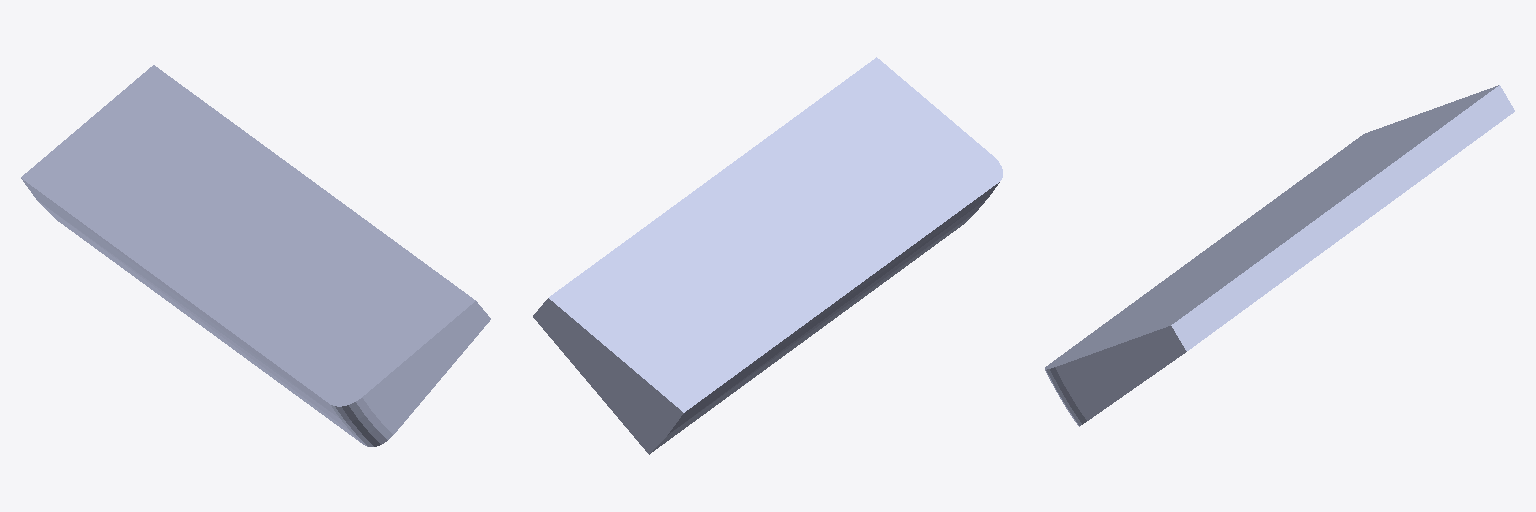
robot.urdf — mri_no_person_collision_pattern:
<robot
  name="mri_no_person_collision_pattern">
  <link
    name="base_link">
    <inertial>
      <origin
        xyz="-0.0581632879362901 -0.172648971046961 -0.106048016915093"
        rpy="0 0 0" />
      <mass
        value="46.358656237348" />
      <inertia
        ixx="6.74023573375755"
        ixy="0.00590724765498782"
        ixz="-0.205277419488155"
        iyy="0.517832983217161"
        iyz="0.00429186664480149"
        izz="6.87363308732468" />
    </inertial>
    <visual>
      <origin
        xyz="0 0 0"
        rpy="0 0 0" />
      <geometry>
        <mesh
          filename="package://mri_no_person_collision_pattern/meshes/base_link.STL" />
      </geometry>
      <material
        name="">
        <color
          rgba="0.792156862745098 0.819607843137255 0.933333333333333 1" />
      </material>
    </visual>
    <collision>
      <origin
        xyz="0 0 0"
        rpy="0 0 0" />
      <geometry>
        <mesh
          filename="package://mri_no_person_collision_pattern/meshes/base_link.STL" />
      </geometry>
    </collision>
  </link>
</robot>

--- Render facts (derived) ---
3 views of the same robot in one strip: view 1: azimuth 30°, elevation 25°; view 2: azimuth 150°, elevation 25°; view 3: azimuth 330°, elevation 25° (orthographic).
Model mri_no_person_collision_pattern with 1 links and 0 joints (none), rooted at base_link, posed all joints at 0.
Visible links, largest first — view 1: base_link; view 2: base_link; view 3: base_link.
Boxes of the visible links, x1,y1,x2,y2 form: base_link: [21, 65, 490, 446]; base_link: [533, 57, 1002, 454]; base_link: [1045, 85, 1514, 426].
Size in the robot's own frame: 0.3471 by 1.3 by 0.2899 metres.
1 mesh visuals loaded from 1 distinct referenced files (1 binary STL).